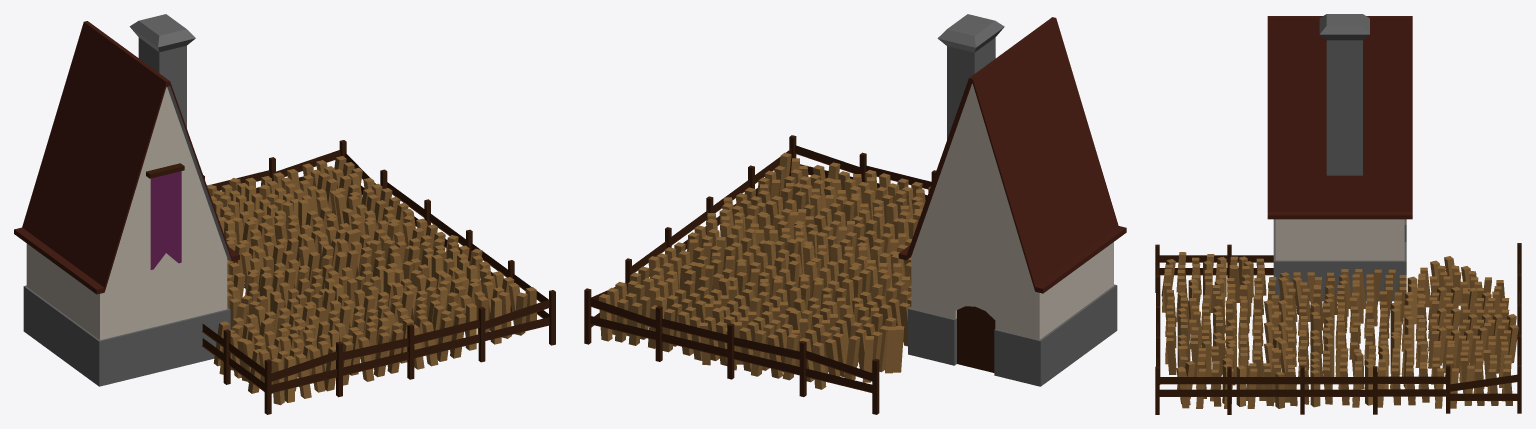
Rendered from Farmv2.fbx.
3 views of the same model, side by side, from view 1: azimuth 30°, elevation 25°; view 2: azimuth 150°, elevation 25°; view 3: azimuth 270°, elevation 25° (orthographic). The views are drawn at different scales.
Parts seen in each view (by area): view 1: Plane.425; view 2: Plane.425; view 3: Plane.425.
Boxes of the visible parts, left/top/right/bottom form: Plane.425: left=14, top=14, right=555, bottom=414; Plane.425: left=584, top=14, right=1126, bottom=414; Plane.425: left=1155, top=14, right=1521, bottom=414.
Bounding box in the file's own units: 199 × 150 × 182.
